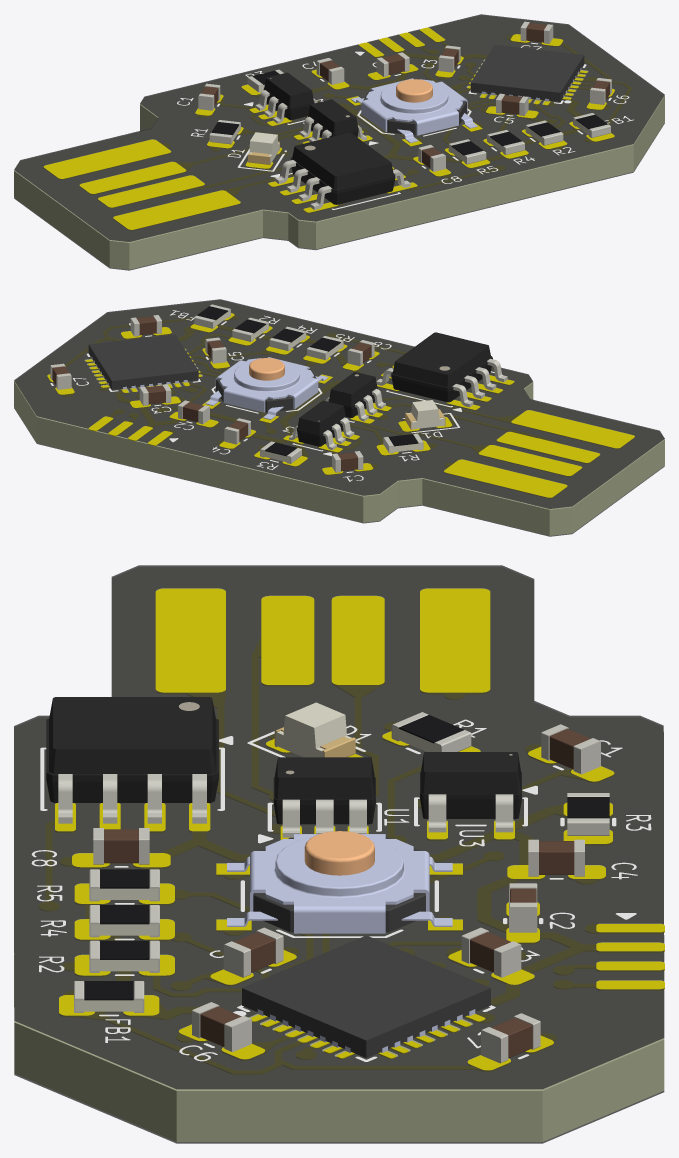
File: 2FAK-V1B-sizing.glb
3 renders of one model, top to bottom at view 1: azimuth 30°, elevation 25°; view 2: azimuth 150°, elevation 25°; view 3: azimuth 270°, elevation 25°, orthographic. The views are drawn at different scales.
Parts seen in each view (by area): view 1: =>[0:1:1:23], =>[0:1:1:21], =>[0:1:1:18], =>[0:1:1:5], =>[0:1:1:7], =>[0:1:1:11], =>[0:1:1:9] (×8), =>[0:1:1:13] (×5), =>[0:1:1:15], =>[0:1:1:17], =>[0:1:1:19], =>[0:1:1:22] (+1 smaller); view 2: =>[0:1:1:23], =>[0:1:1:21], =>[0:1:1:18], =>[0:1:1:5], =>[0:1:1:7], =>[0:1:1:11], =>[0:1:1:9] (×8), =>[0:1:1:13] (×6), =>[0:1:1:15], =>[0:1:1:17], =>[0:1:1:19], =>[0:1:1:22] (+1 smaller); view 3: =>[0:1:1:23], =>[0:1:1:21], =>[0:1:1:18], =>[0:1:1:5], =>[0:1:1:11], =>[0:1:1:7], =>[0:1:1:9] (×8), =>[0:1:1:13] (×6), =>[0:1:1:17], =>[0:1:1:15], =>[0:1:1:19], =>[0:1:1:3] (+1 smaller).
Boxes of the visible parts, x1,y1,x2,y2 form: =>[0:1:1:23]: (14, 16, 664, 269); =>[0:1:1:21]: (14, 14, 664, 241); =>[0:1:1:18]: (44, 27, 631, 229); =>[0:1:1:5]: (275, 132, 410, 209); =>[0:1:1:7]: (351, 78, 477, 143); =>[0:1:1:11]: (470, 45, 584, 101); =>[0:1:1:9] (×8): (198, 21, 611, 171); =>[0:1:1:13] (×5): (209, 113, 610, 164); =>[0:1:1:15]: (255, 72, 317, 123); =>[0:1:1:17]: (299, 99, 366, 141); =>[0:1:1:19]: (177, 42, 633, 209); =>[0:1:1:22]: (14, 123, 664, 270); =>[0:1:1:23]: (14, 300, 664, 535); =>[0:1:1:21]: (14, 299, 664, 508); =>[0:1:1:18]: (47, 313, 634, 497); =>[0:1:1:5]: (376, 332, 507, 407); =>[0:1:1:7]: (205, 357, 328, 419); =>[0:1:1:11]: (88, 334, 198, 389); =>[0:1:1:9] (×8): (50, 315, 374, 472); =>[0:1:1:13] (×6): (194, 304, 423, 463); =>[0:1:1:15]: (289, 400, 354, 449); =>[0:1:1:17]: (325, 372, 385, 421); =>[0:1:1:19]: (50, 310, 494, 481); =>[0:1:1:22]: (14, 408, 664, 536); =>[0:1:1:23]: (14, 567, 664, 1141); =>[0:1:1:21]: (14, 565, 664, 1089); =>[0:1:1:18]: (39, 588, 664, 1073); =>[0:1:1:5]: (46, 697, 218, 823); =>[0:1:1:11]: (242, 935, 490, 1057); =>[0:1:1:7]: (227, 831, 452, 933); =>[0:1:1:9] (×8): (93, 724, 600, 1063); =>[0:1:1:13] (×6): (74, 712, 609, 1012); =>[0:1:1:17]: (273, 757, 375, 837); =>[0:1:1:15]: (420, 752, 521, 832); =>[0:1:1:19]: (31, 719, 651, 1061); =>[0:1:1:3]: (274, 702, 355, 757).
Size of the model in its own units: 0.0352 by 0.00351 by 0.0185.
